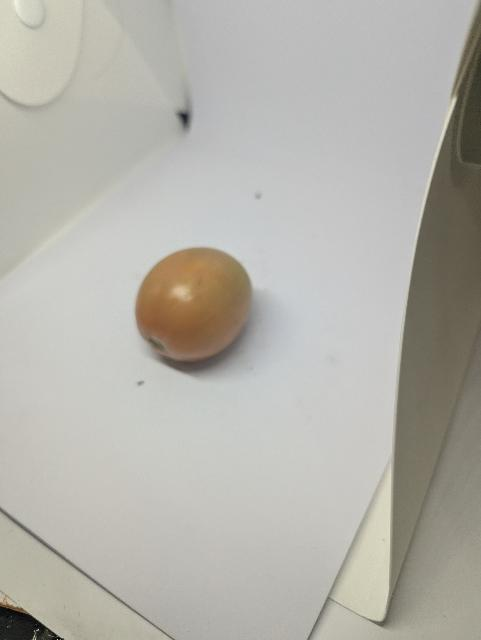breaker: (136, 248, 253, 362)
